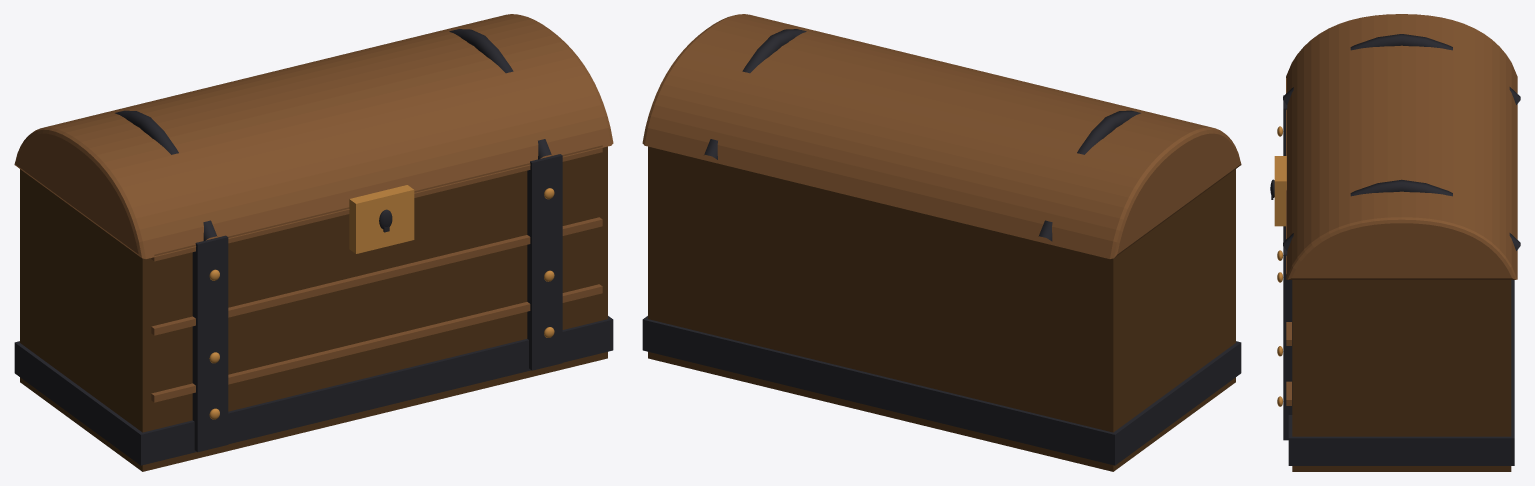
The model's file is mia-chest.glb.
The picture shows the model from 3 angles, left to right: view 1: azimuth 30°, elevation 25°; view 2: azimuth 150°, elevation 25°; view 3: azimuth 270°, elevation 25°; orthographic projection. The views are drawn at different scales.
Parts seen in each view (by area): view 1: Body_oak, Body_wood, Body_iron, Body_brass; view 2: Body_wood, Body_oak, Body_iron; view 3: Body_oak, Body_wood, Body_iron, Body_brass.
Part boxes in pixels (x1,y1,x2,y2): Body_oak: (14,14,613,402); Body_wood: (20,146,607,471); Body_iron: (14,29,613,465); Body_brass: (209,185,554,419); Body_wood: (648,146,1235,471); Body_oak: (642,14,1241,258); Body_iron: (642,29,1241,465); Body_oak: (1286,14,1517,405); Body_wood: (1292,280,1511,471); Body_iron: (1270,34,1520,465); Body_brass: (1274,126,1286,406).
Bounding box in the file's own units: 1.3 × 0.7702 × 0.6665.
